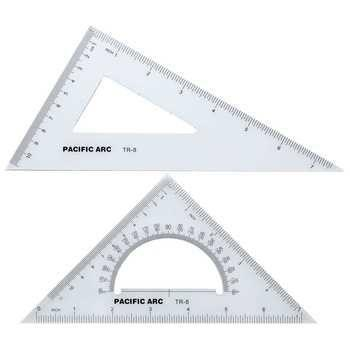PS: (2, 23, 344, 170), (22, 173, 317, 325)
